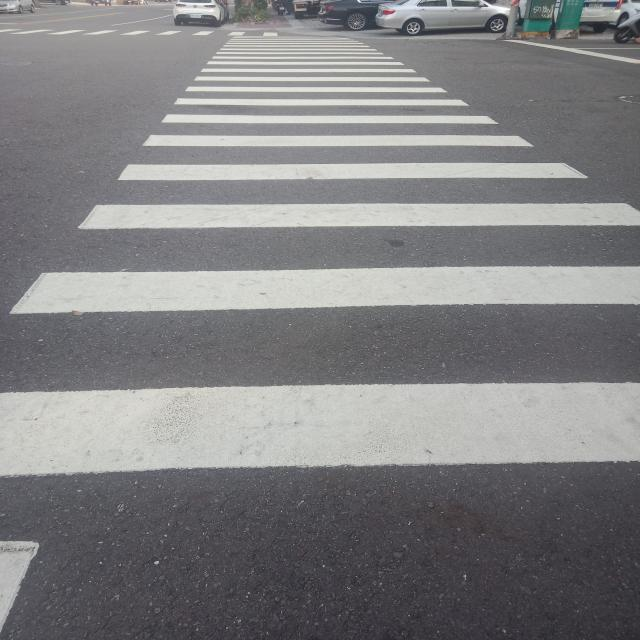zebra crossing: (3, 37, 640, 488), (0, 29, 276, 37)
